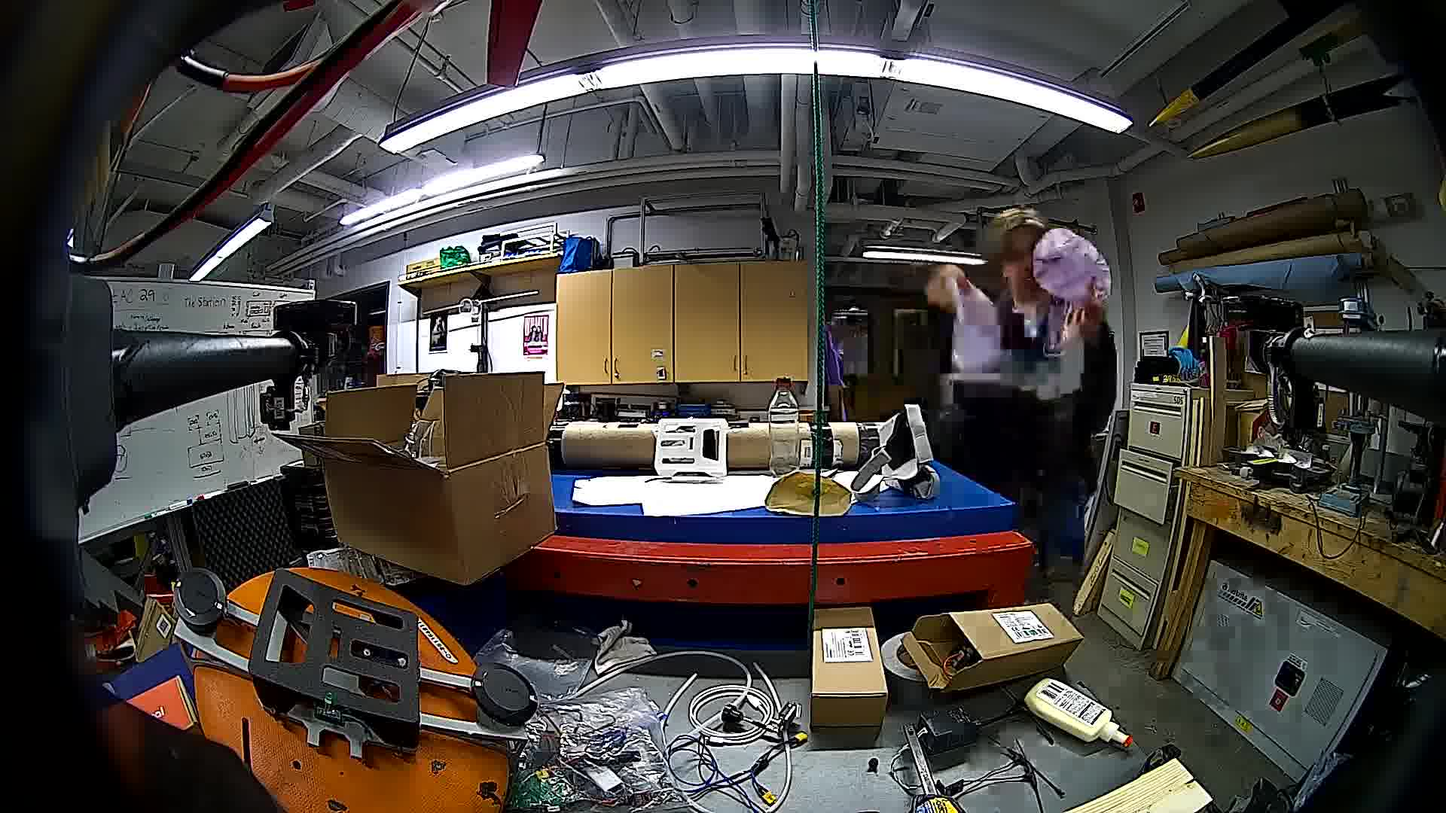Target: (1031, 217, 1117, 313), (943, 270, 1008, 375)
